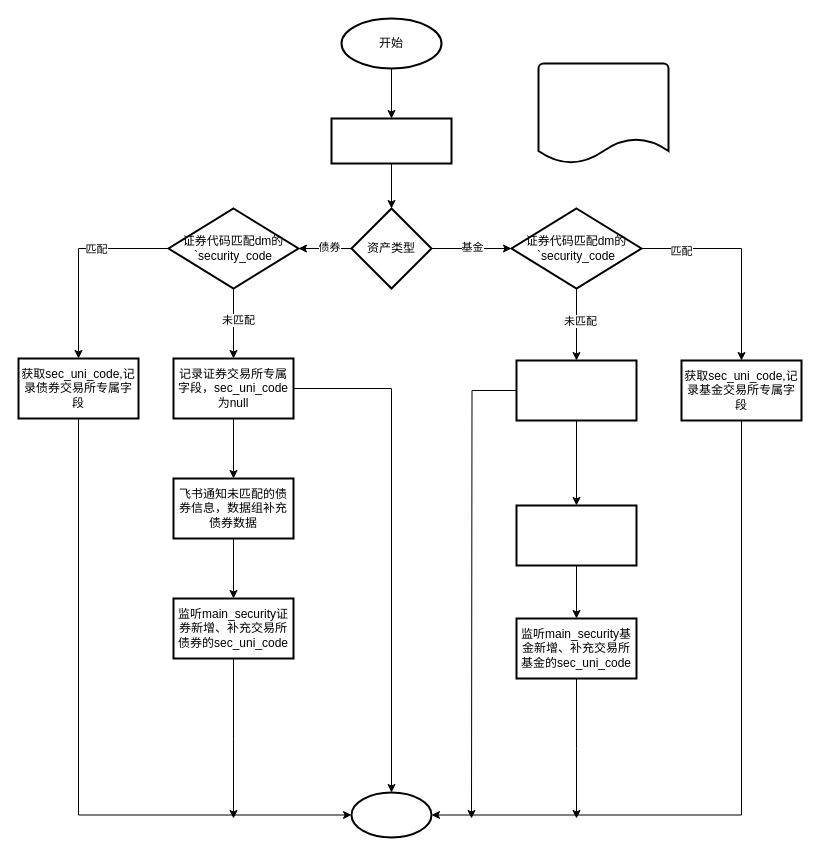
Image size: 819x855. Some labels were removed from this diagram. The centre of each missing label's shape, as x and y in pixels:
交易所ODS盘前数据: the point at 391,140
结束: the point at 391,814
股票、其它资产先接入ODS层，数据观察分析后再决定如何处理: the point at 603,113
记录基金交易所专属字段，sec_uni_code为null: the point at 576,390
飞书通知未匹配的基金信息，通知通联补基金数据: the point at 576,535
